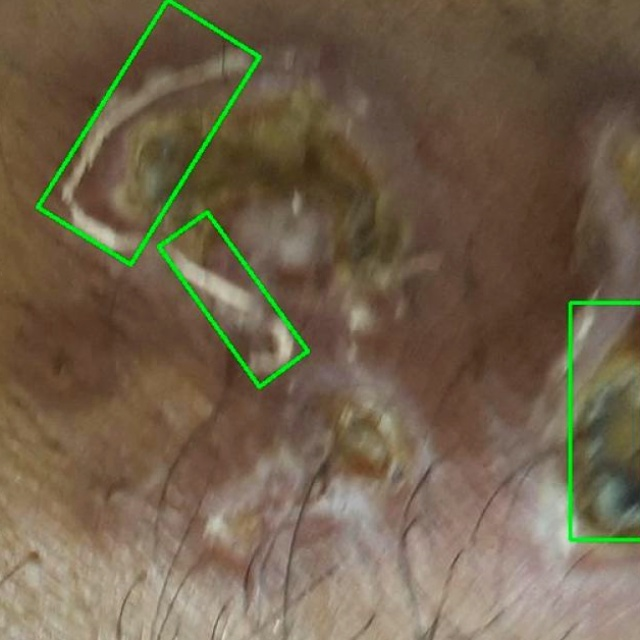Contact Dermatitis: (37, 0, 258, 263), (158, 211, 307, 386), (570, 302, 639, 539)
